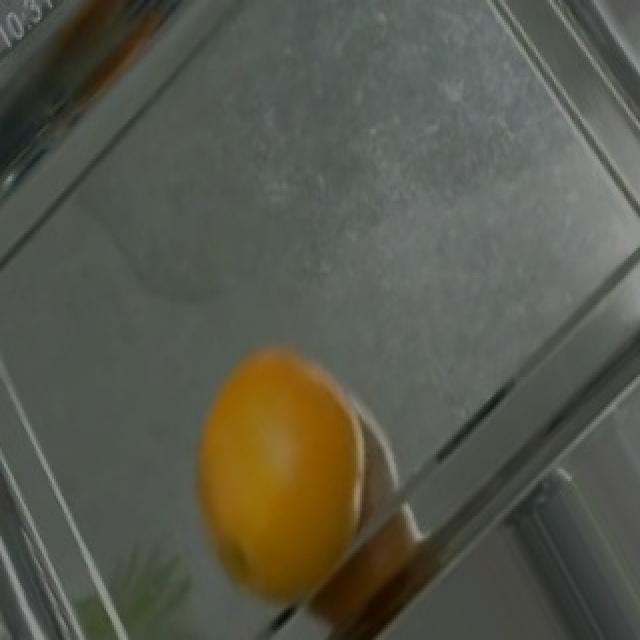Fruit: (180, 322, 388, 640)
